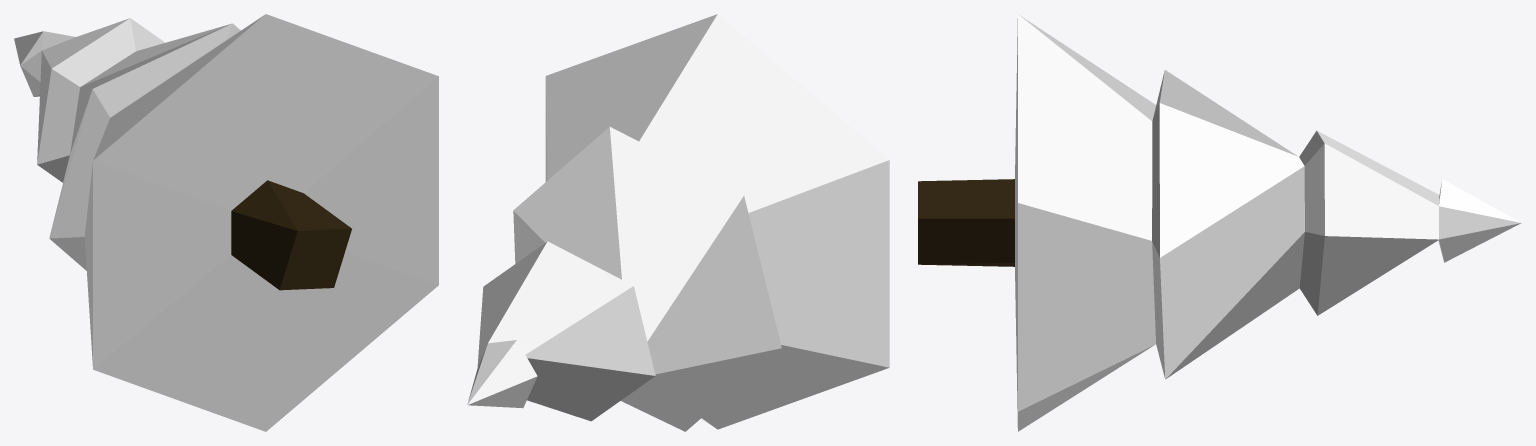
Rendered from winter_night_tree_2.fbx.
3 renders of one model, left to right at view 1: azimuth 30°, elevation 25°; view 2: azimuth 150°, elevation 25°; view 3: azimuth 270°, elevation 25°, orthographic.
Parts seen in each view (by area): view 1: winter_night_tree_2; view 2: winter_night_tree_2; view 3: winter_night_tree_2.
Part boxes in pixels (<box>): winter_night_tree_2: <box>14,14,438,431</box>; winter_night_tree_2: <box>467,14,889,431</box>; winter_night_tree_2: <box>918,14,1521,431</box>.
Bounding box in the file's own units: 93.83 × 108 × 142.
